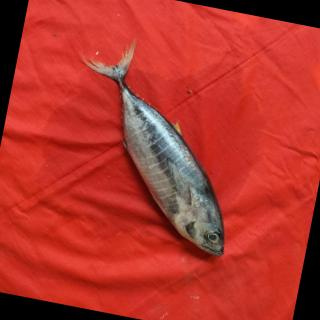Ikan: (41, 22, 281, 275)
